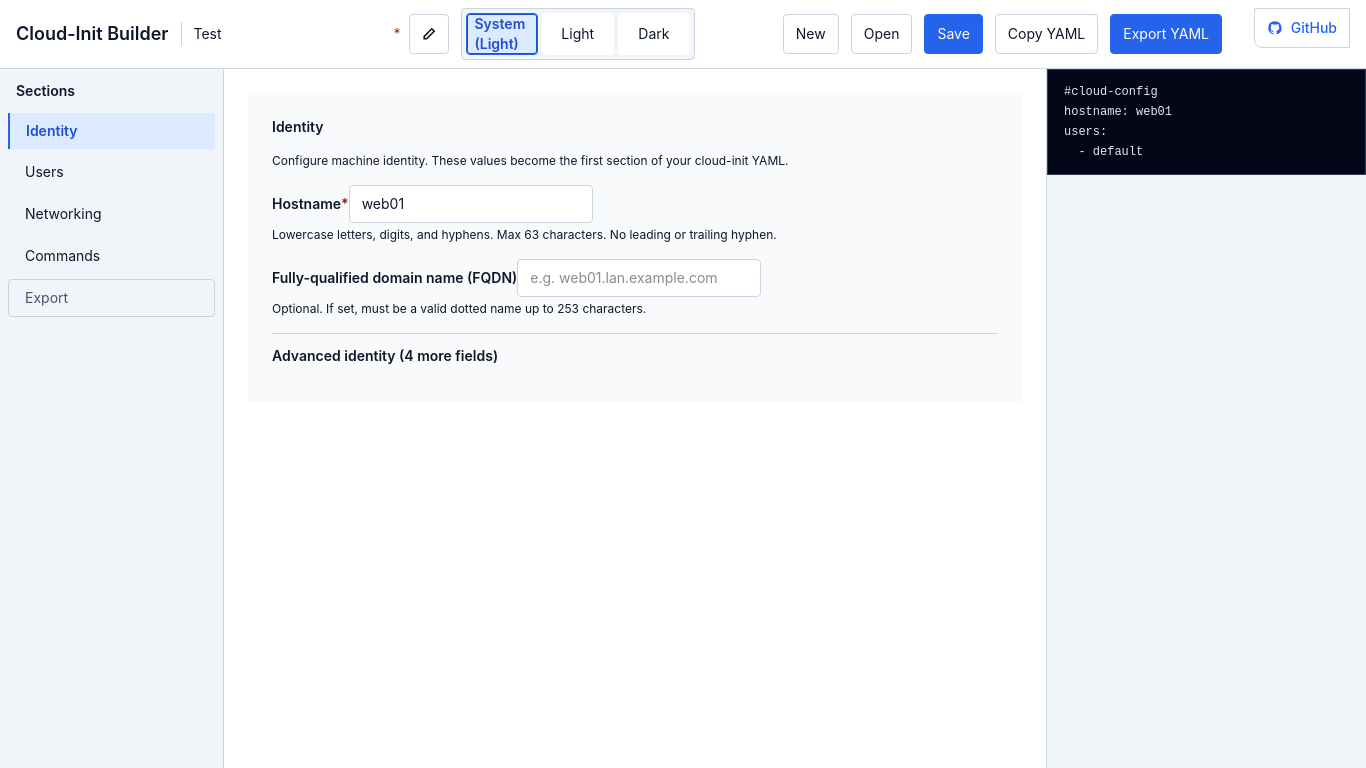
Test case: MainLayout networking navigation › renders Networking explicitly without mutating project state
The image size is (1366, 768).
Click the button "Networking": (112, 214) [8,195,215,233]
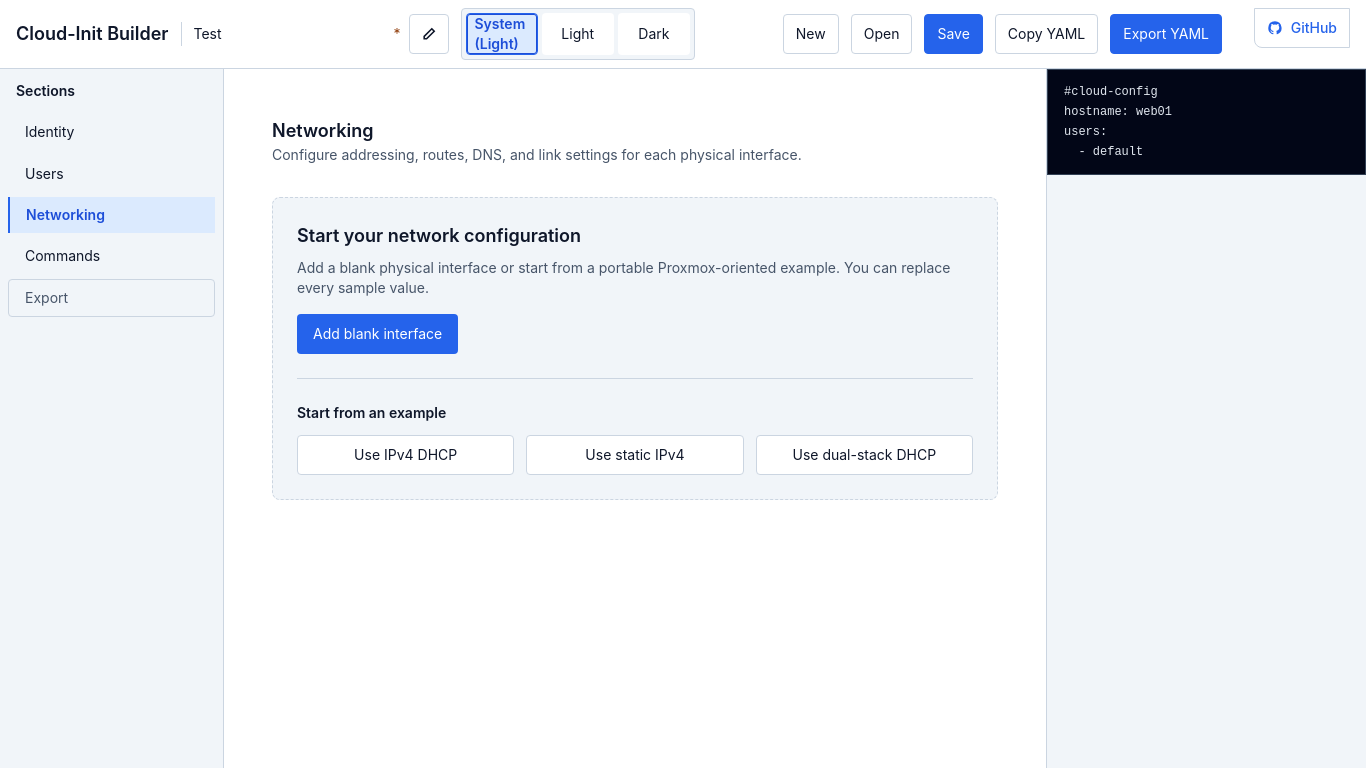
Expected: the heading "Networking" is shown, [272,120,374,141]
